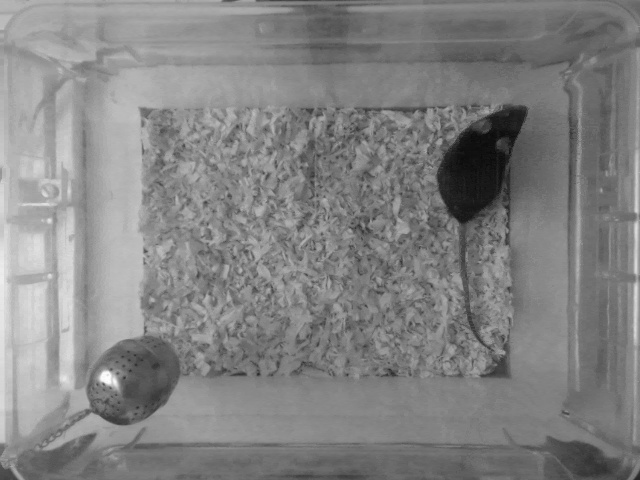mice: (436, 101, 529, 356)
